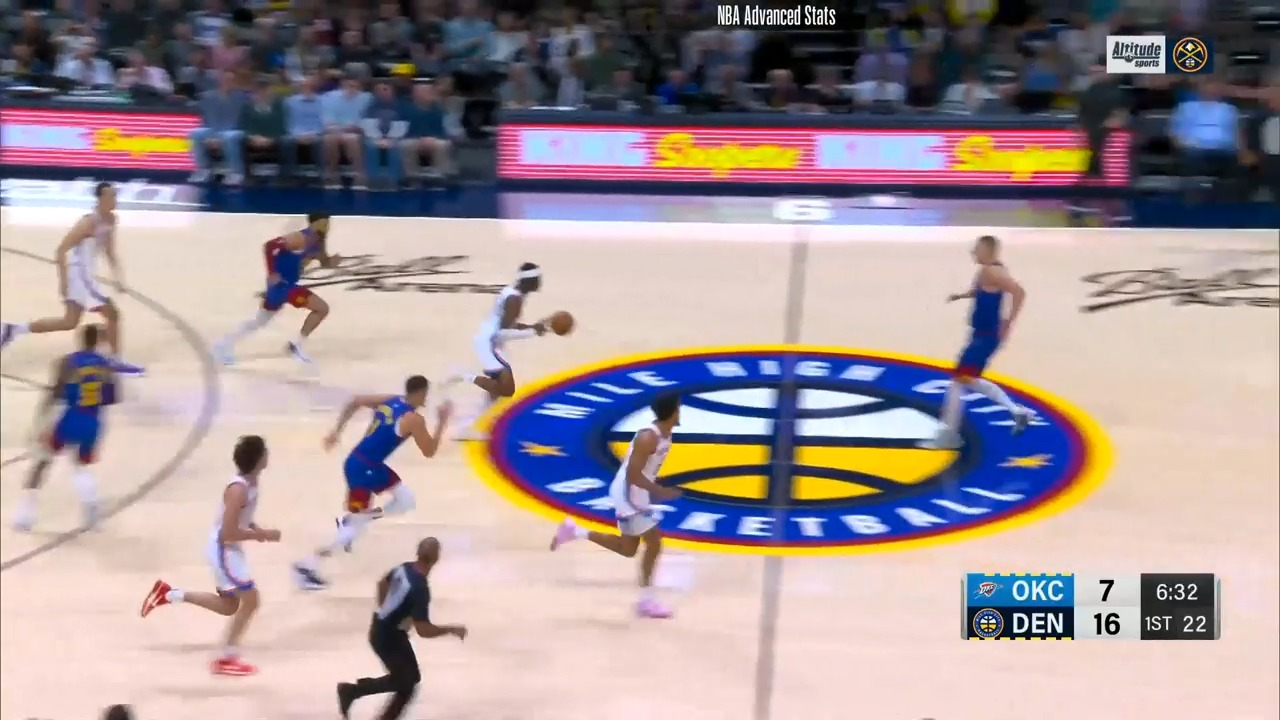player: (137, 434, 286, 683), (289, 370, 449, 596), (546, 393, 694, 628), (5, 185, 138, 384), (428, 255, 561, 454), (2, 321, 119, 541), (936, 232, 1043, 461), (213, 209, 342, 379)
referee: (336, 535, 470, 718)
